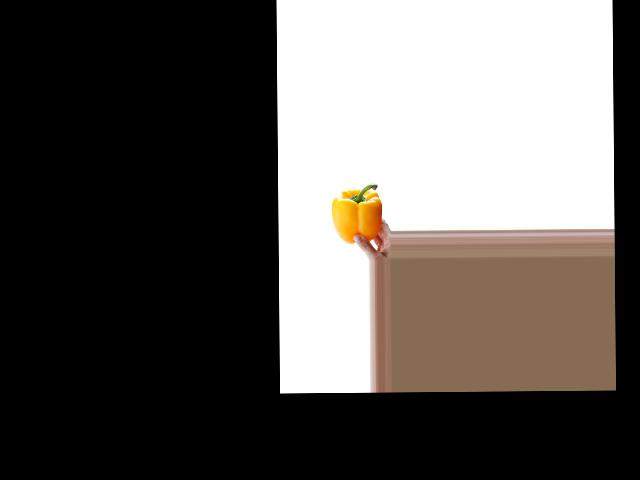bell_pepper: (330, 181, 382, 245)
